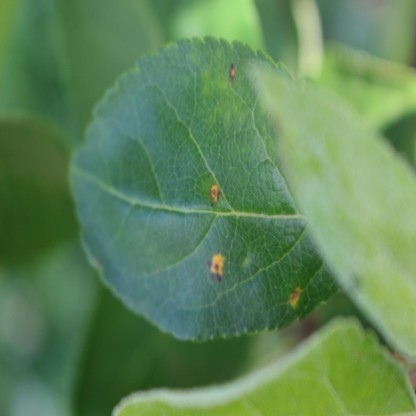rust: (207, 252, 225, 280), (288, 287, 299, 308), (210, 184, 220, 205), (229, 64, 236, 79)
